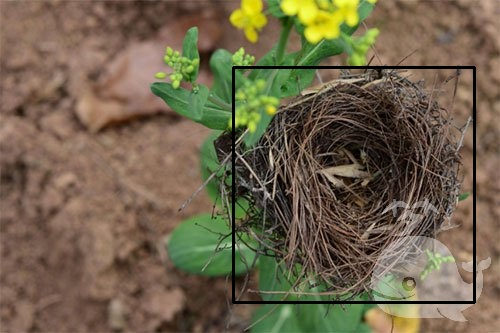bird-nest: (217, 67, 463, 305)
